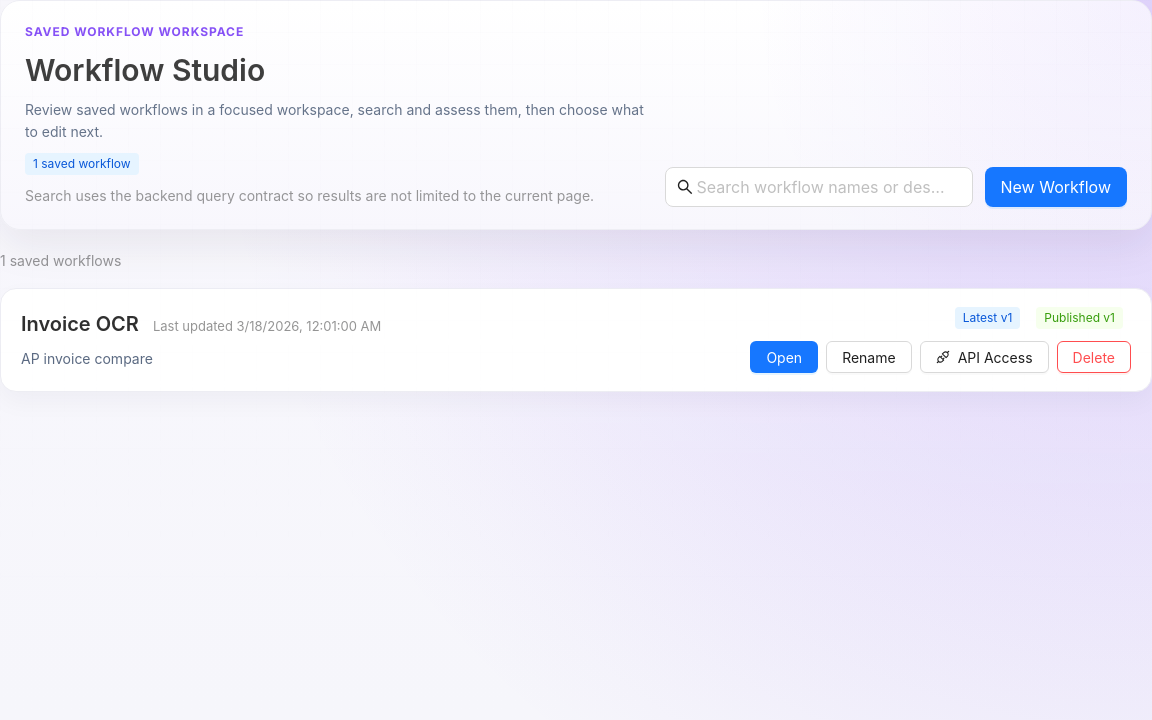
Test: WorkflowStudioPage › renames workflow metadata from the studio list and refreshes the current query
The width and height of the screenshot is (1152, 720).
Expected: the heading "Invoice OCR" is shown, top-left (21, 310), bottom-right (139, 338)
Click the button with test id "workflow-studio-rename-wf_1". click: (869, 357)
box: top-left (826, 341), bottom-right (912, 373)
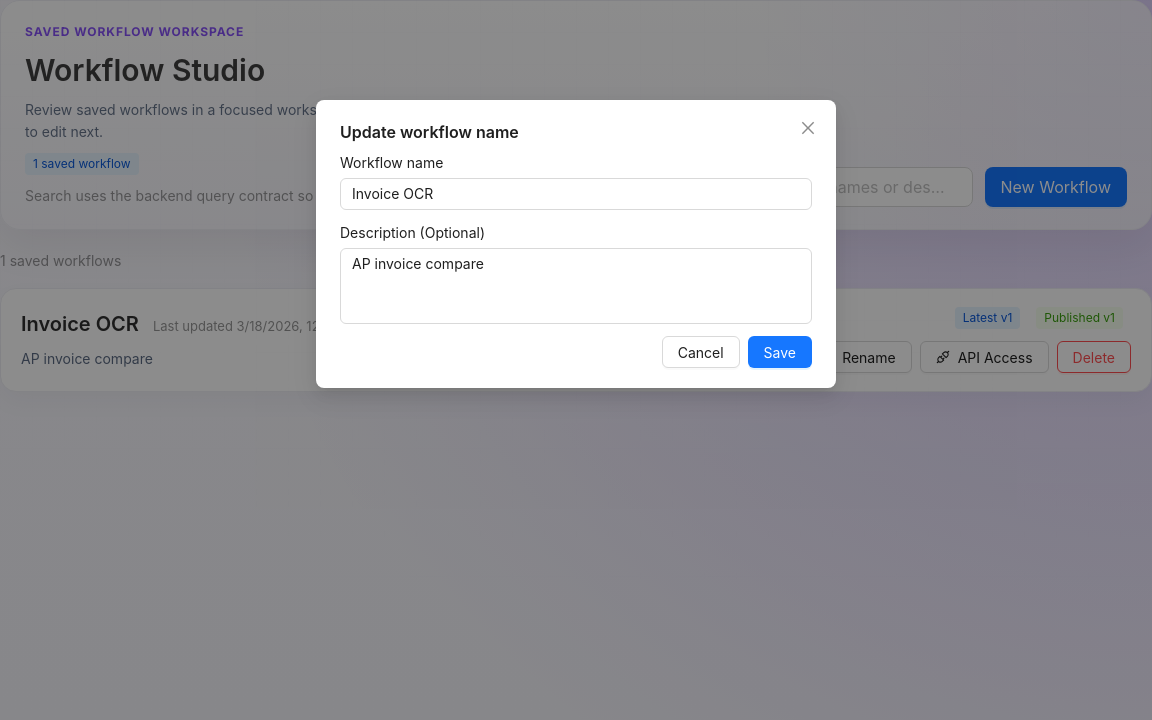
Replace the text in the field with test id "workflow-studio-rename-name" with "Invoice OCR v2". click: (576, 194)
box: top-left (340, 178), bottom-right (812, 210)
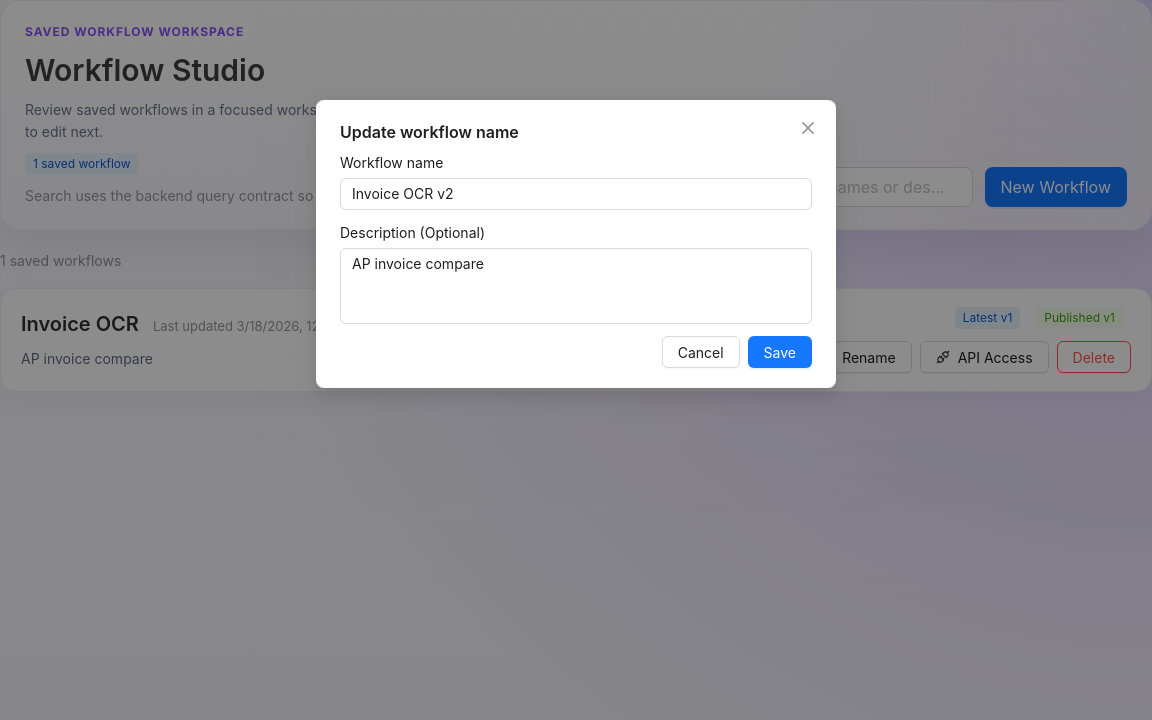
Replace the text in the text box with test id "workflow-studio-rename-description" with "updated by review". click: (576, 286)
box: top-left (340, 248), bottom-right (812, 324)
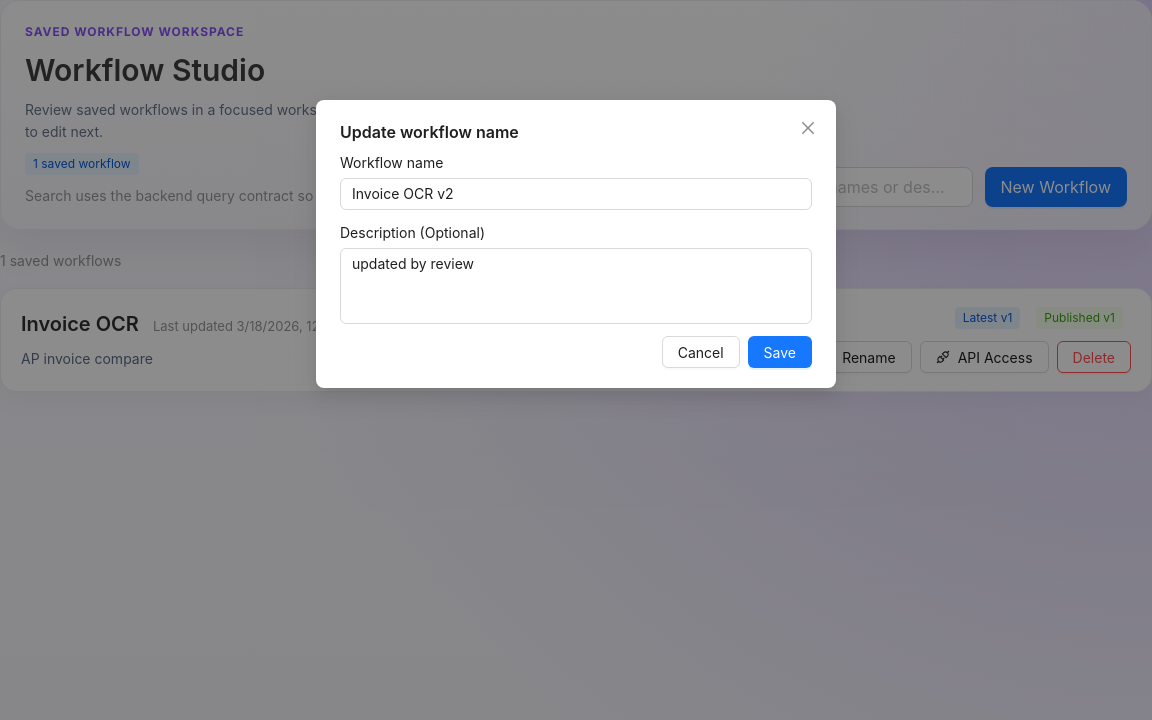
Click the button "Save". click: (780, 352)
box: top-left (748, 336), bottom-right (812, 368)
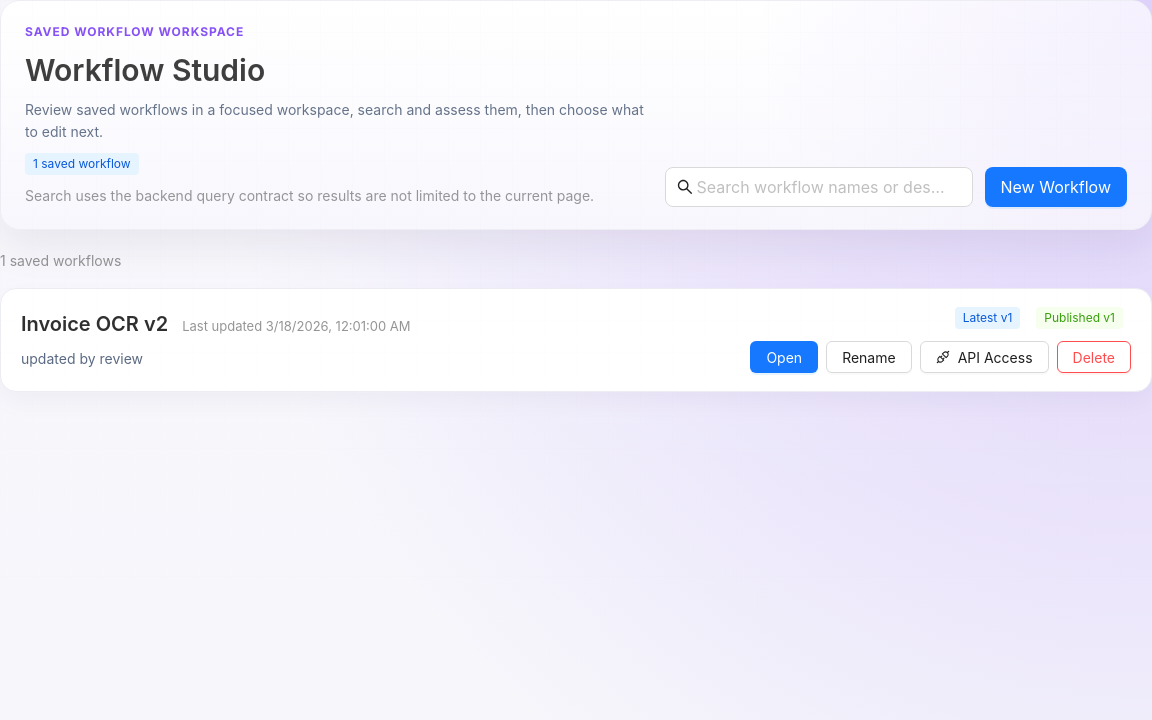
Result: the heading "Invoice OCR v2" is shown at top-left (21, 310), bottom-right (168, 338)
